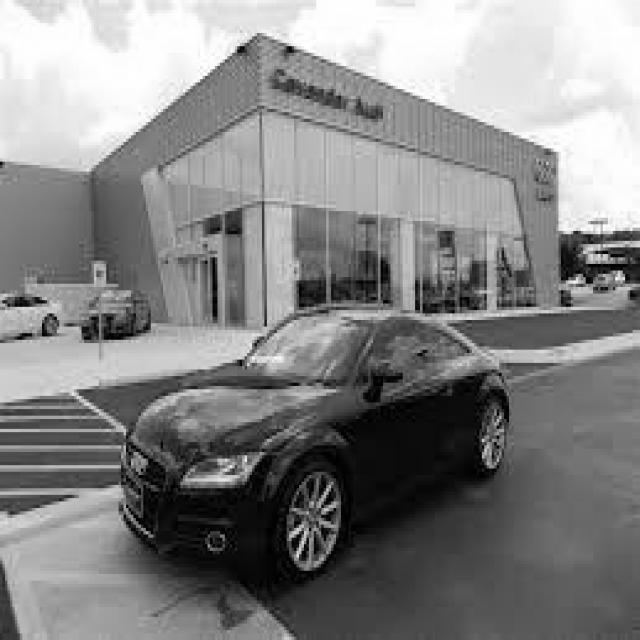car: (116, 300, 509, 584), (79, 287, 151, 340), (0, 290, 59, 339)
